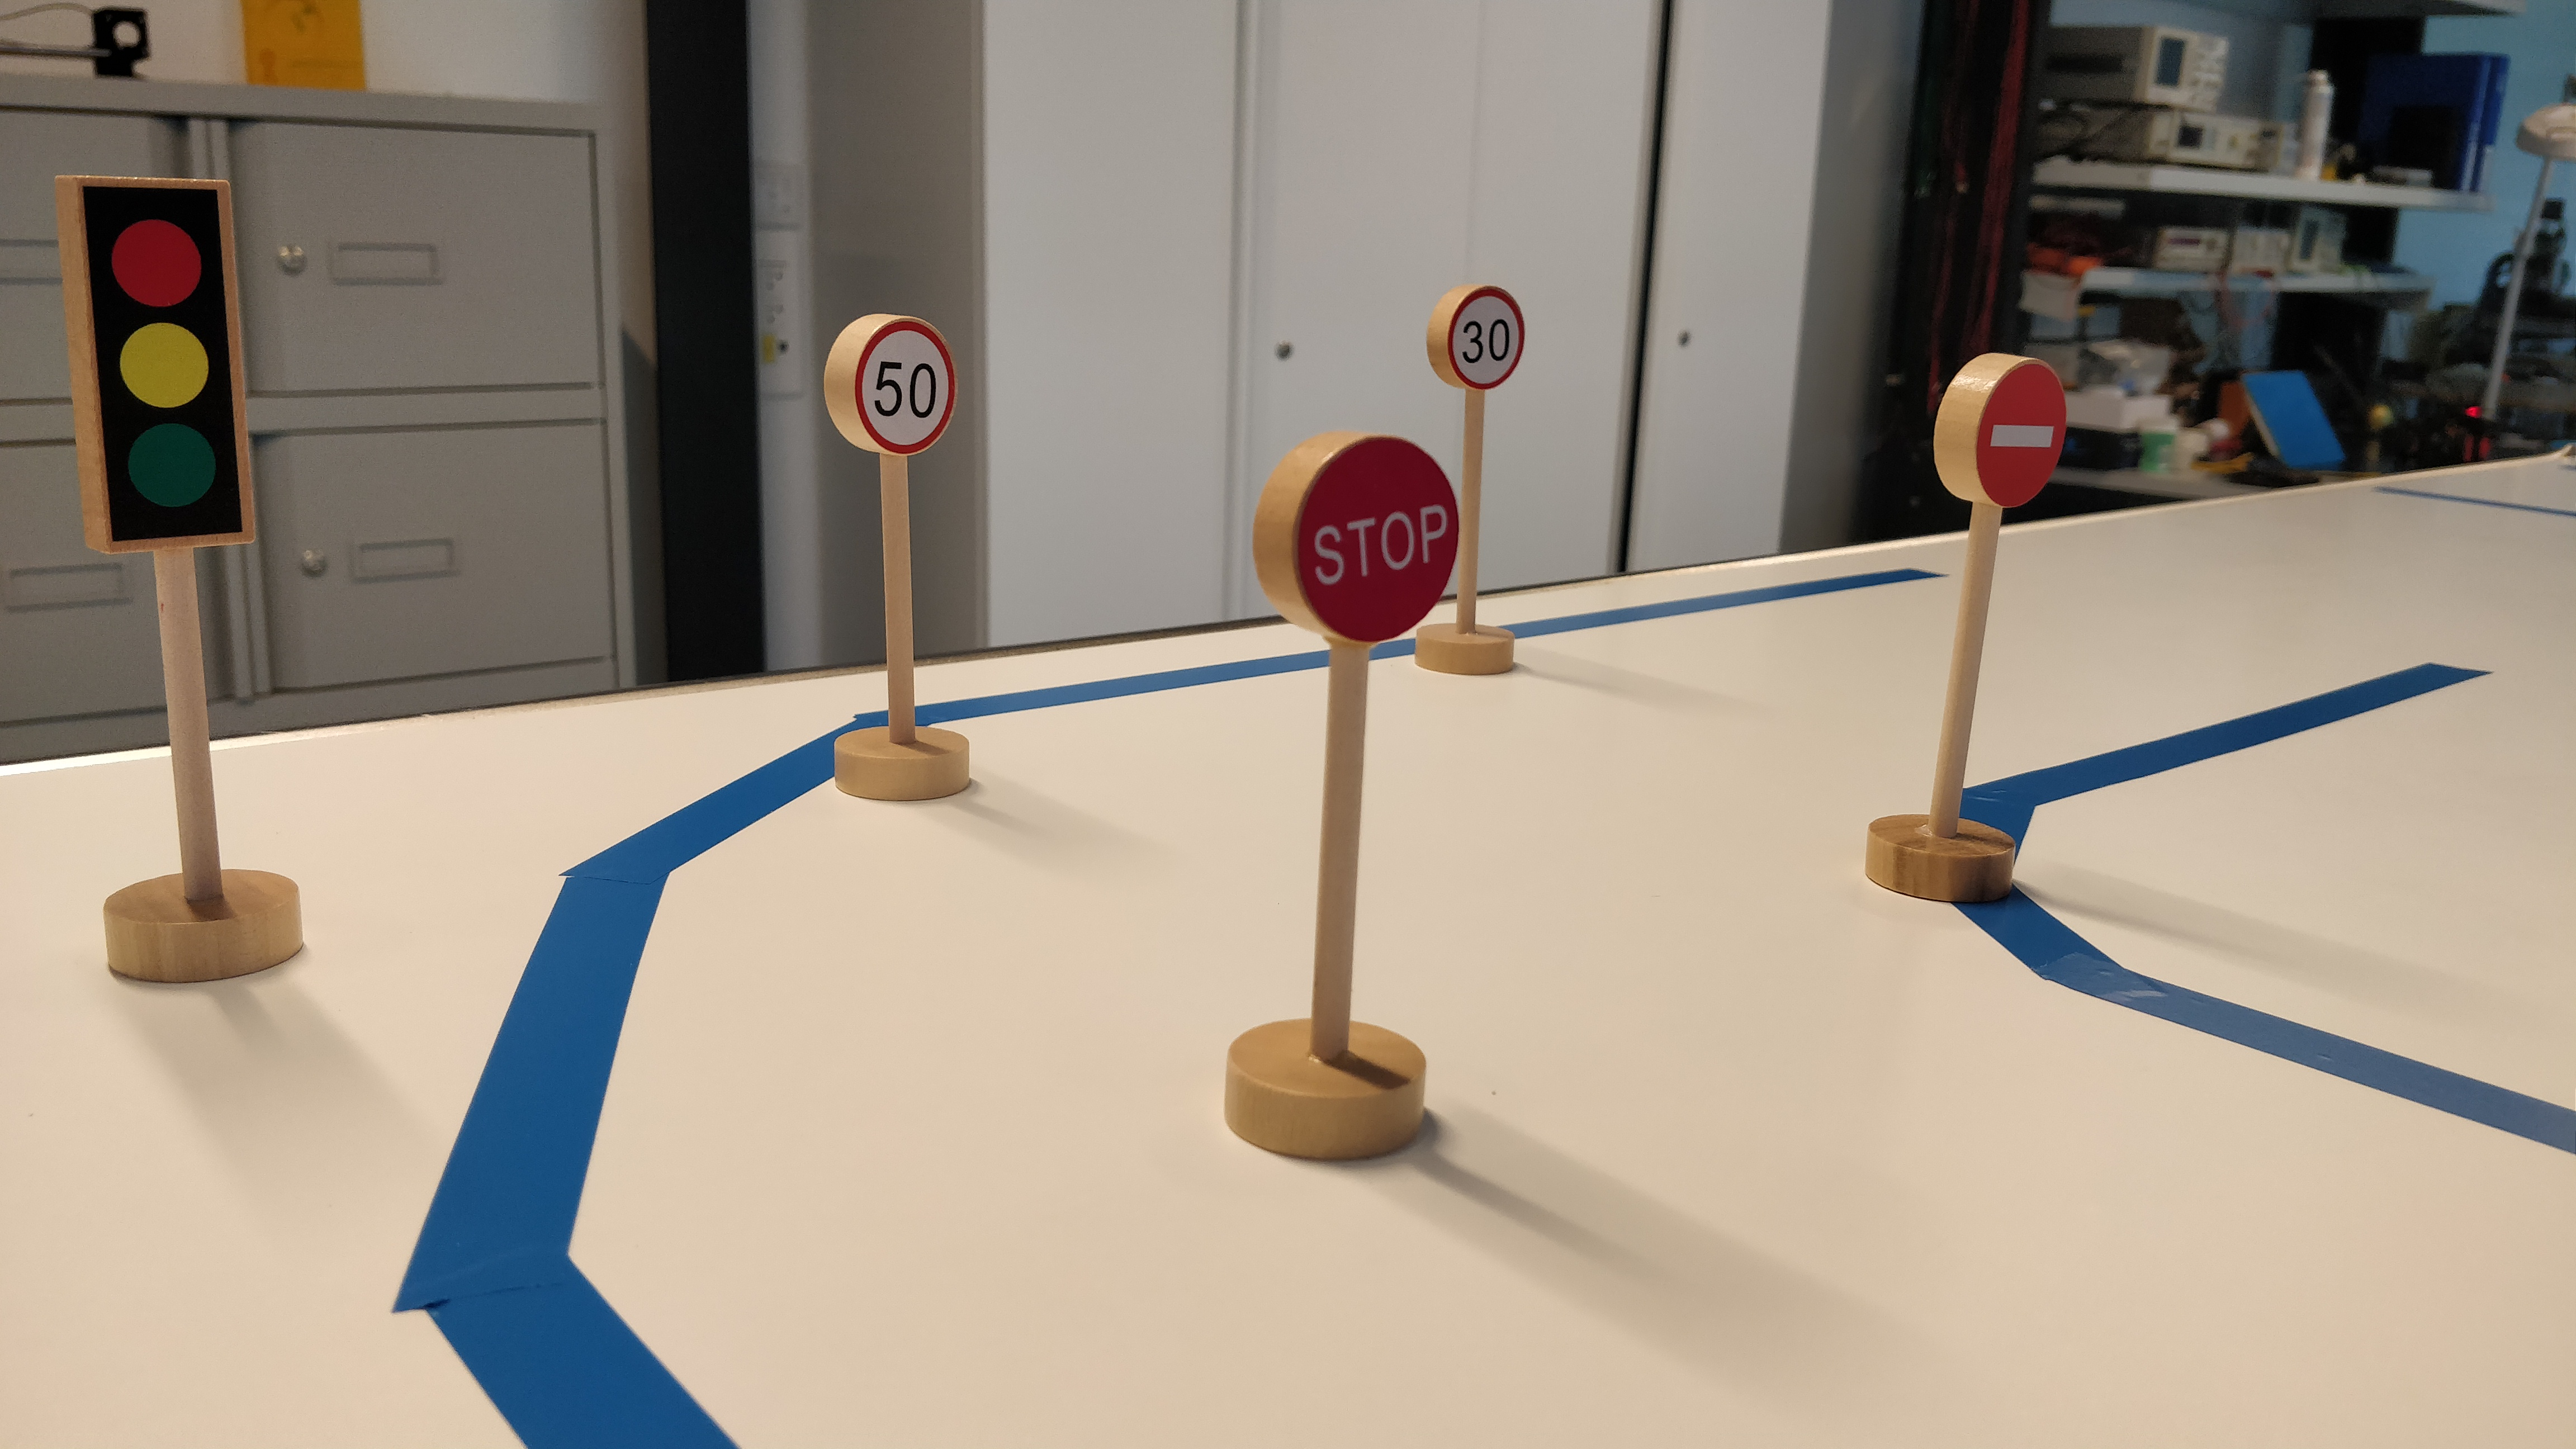Prohibition Sign: (1929, 346, 2071, 509)
Speed Limit 30: (1421, 278, 1532, 397)
Speed Limit 50: (818, 311, 960, 457)
Stop Sign: (1251, 425, 1464, 646)
Traffic Light: (48, 170, 265, 560)
